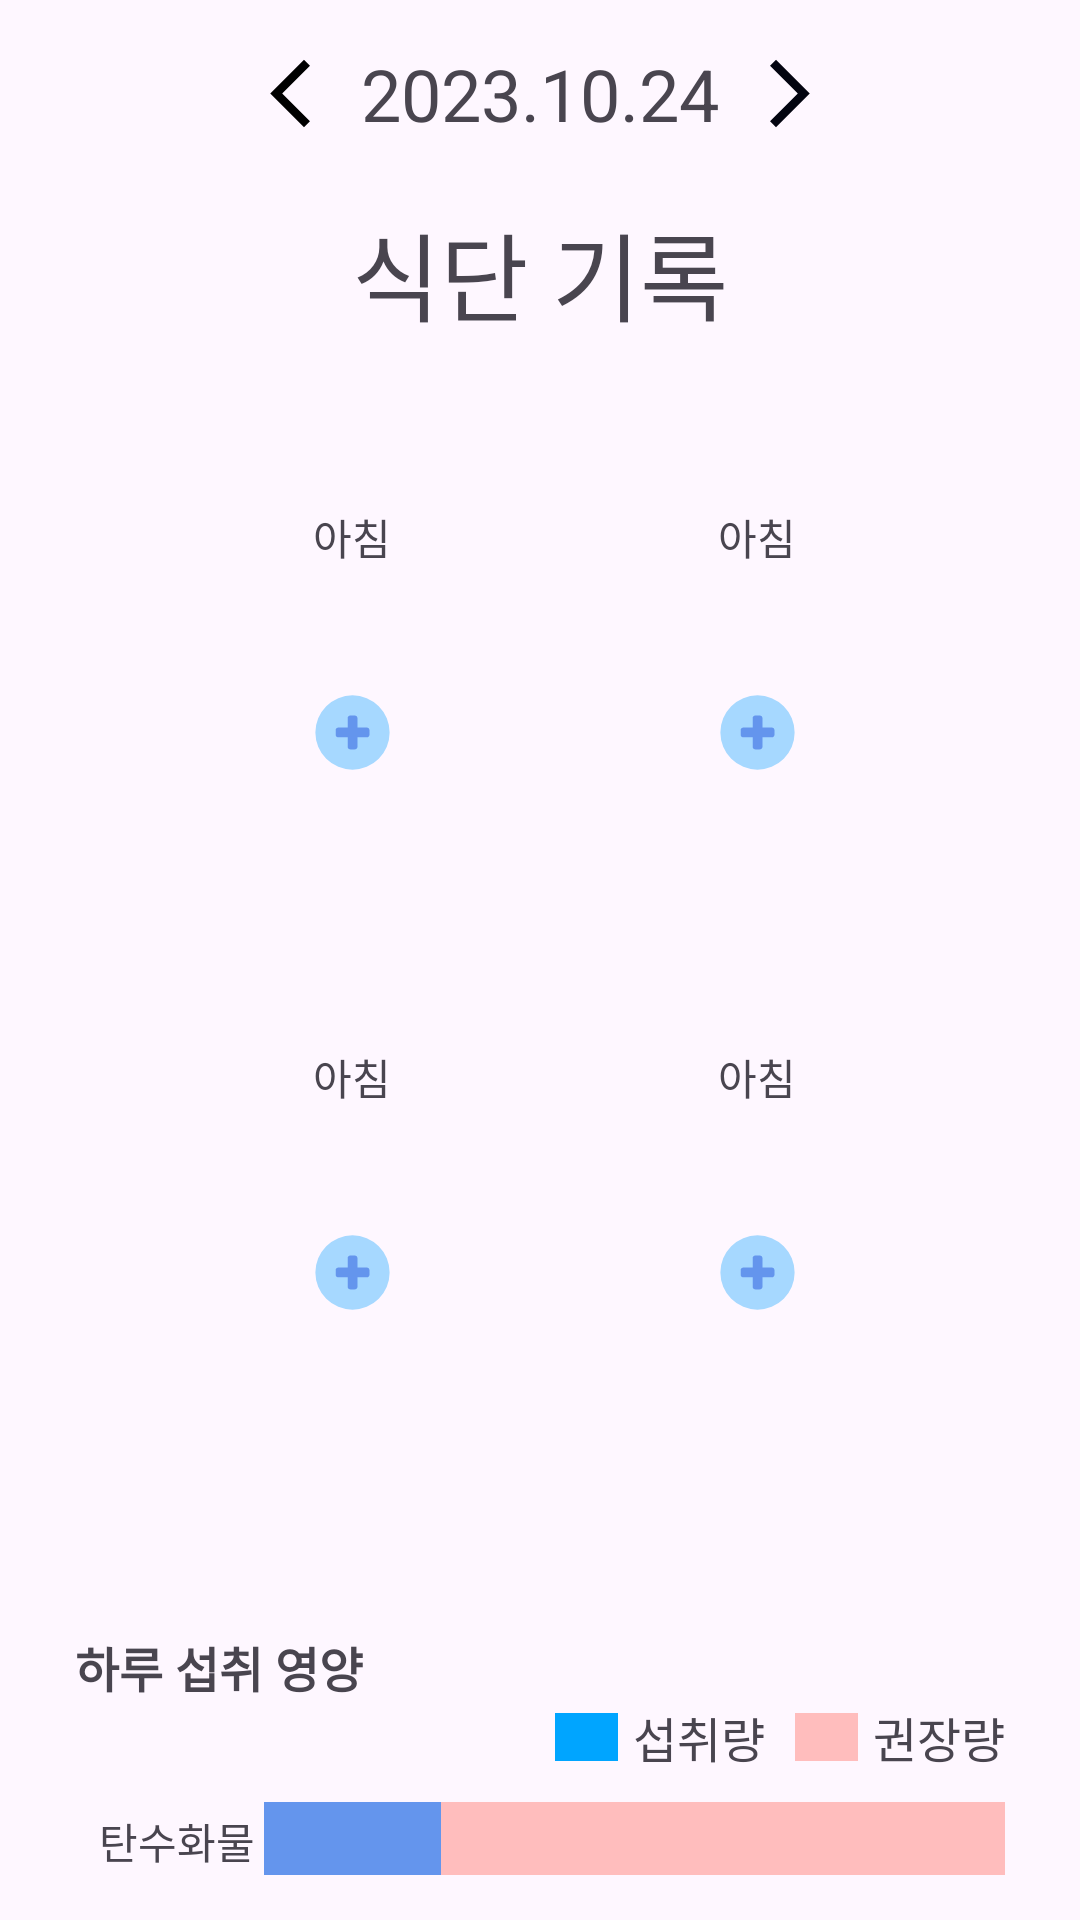

Named icons in this screenshot (1080*1920) and their bounding boxes, (x1=x1, y1=y1, x2=x2, y2=y2):
next: (x1=770, y1=60, x2=810, y2=127)
plus: (x1=315, y1=695, x2=390, y2=770), (x1=720, y1=695, x2=795, y2=770), (x1=315, y1=1235, x2=390, y2=1310), (x1=720, y1=1235, x2=795, y2=1310)
prev: (x1=270, y1=60, x2=310, y2=127)
